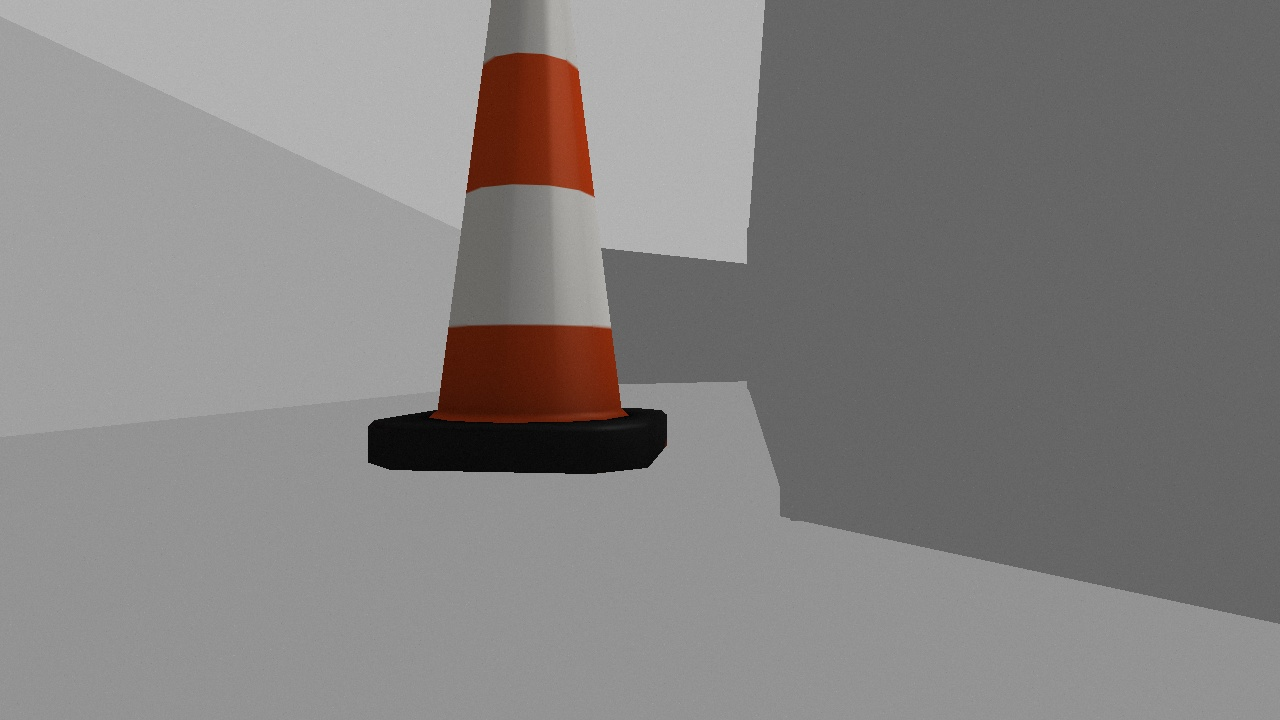barricade: (368, 1, 669, 474)
